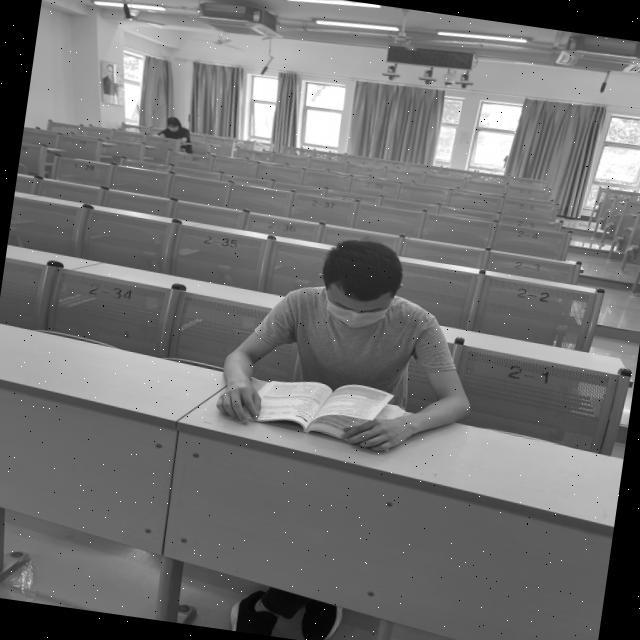study: (212, 223, 487, 462)
